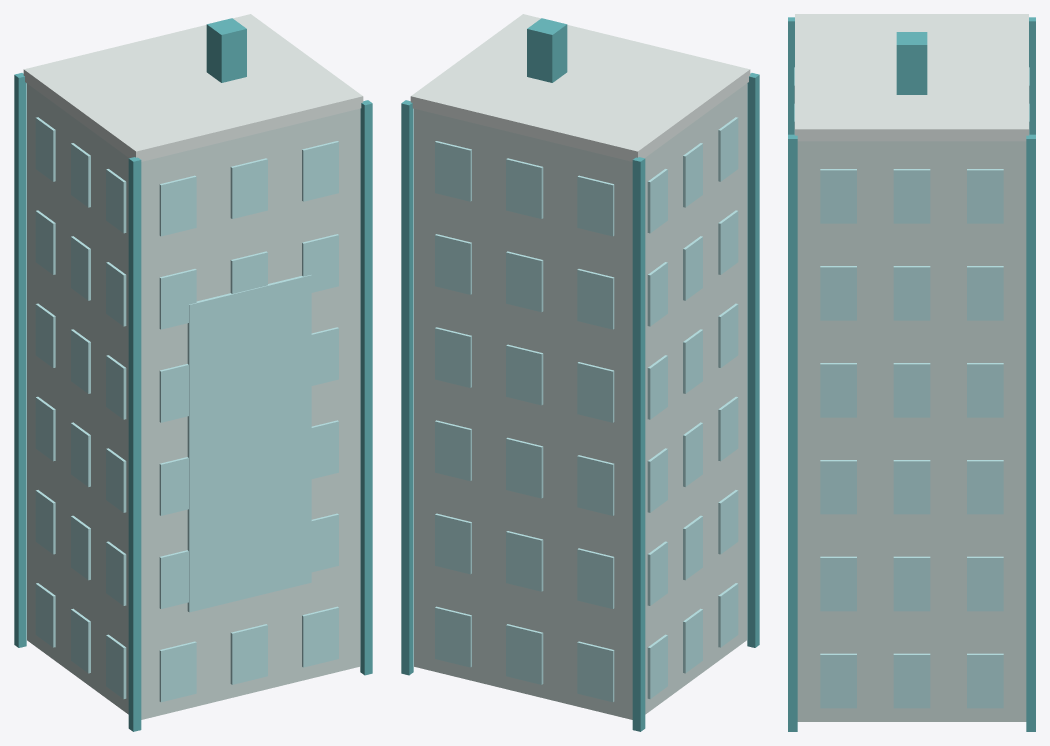
File: palace.glb
3 views of the same model, side by side, from view 1: azimuth 30°, elevation 25°; view 2: azimuth 150°, elevation 25°; view 3: azimuth 270°, elevation 25° (orthographic). The views are drawn at different scales.
Bounding box in the file's own units: 7.53 × 18.77 × 6.49.
